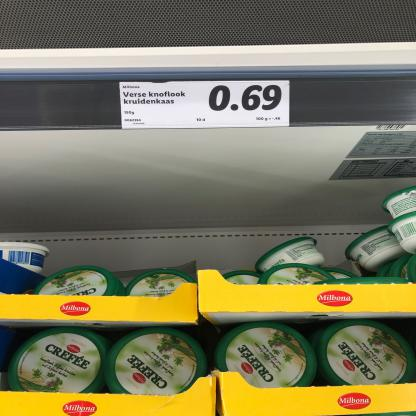prtg: (121, 82, 291, 130)
